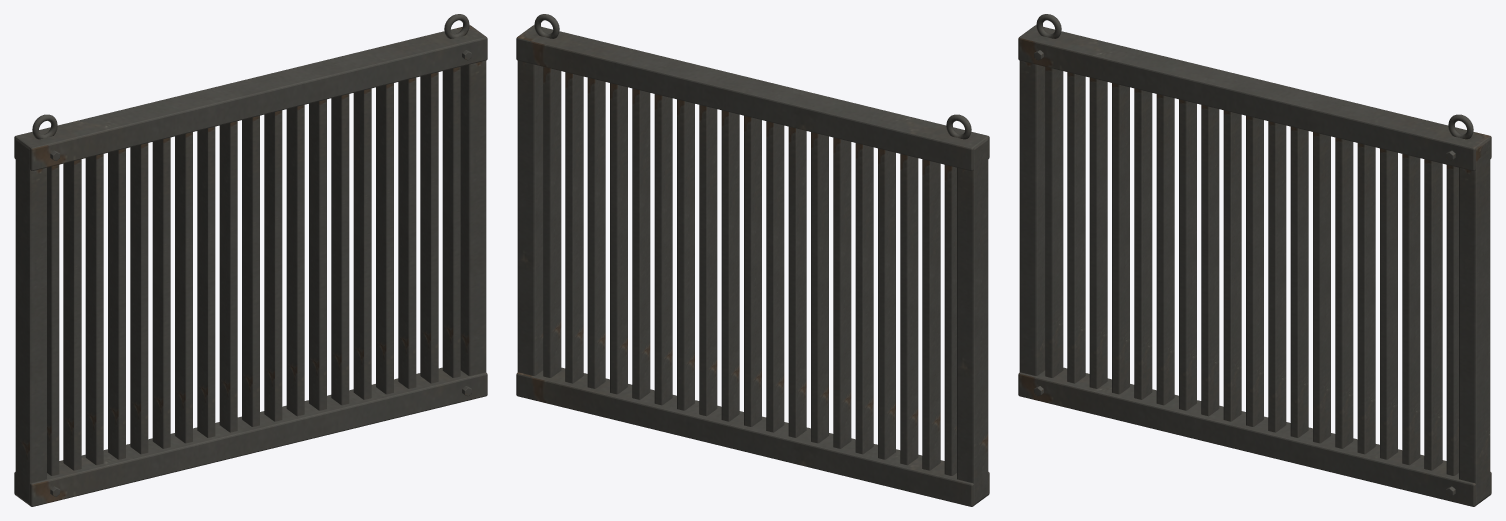
The model's file is SM_IntakeDemo_Screen.fbx.
3 views of the same model, side by side, from view 1: azimuth 30°, elevation 25°; view 2: azimuth 150°, elevation 25°; view 3: azimuth 330°, elevation 25° (orthographic).
Visible parts, largest first — view 1: SM_IntakeDemo_Screen; view 2: SM_IntakeDemo_Screen; view 3: SM_IntakeDemo_Screen.
Part boxes in pixels (left/top/right/bottom): SM_IntakeDemo_Screen: left=14, top=14, right=487, bottom=506; SM_IntakeDemo_Screen: left=516, top=14, right=989, bottom=506; SM_IntakeDemo_Screen: left=1018, top=14, right=1491, bottom=506.
Size of what is drawn, in the model's own units: 266 by 20.7 by 212.
